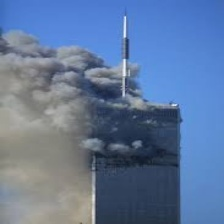smoke: (1, 50, 142, 166)
